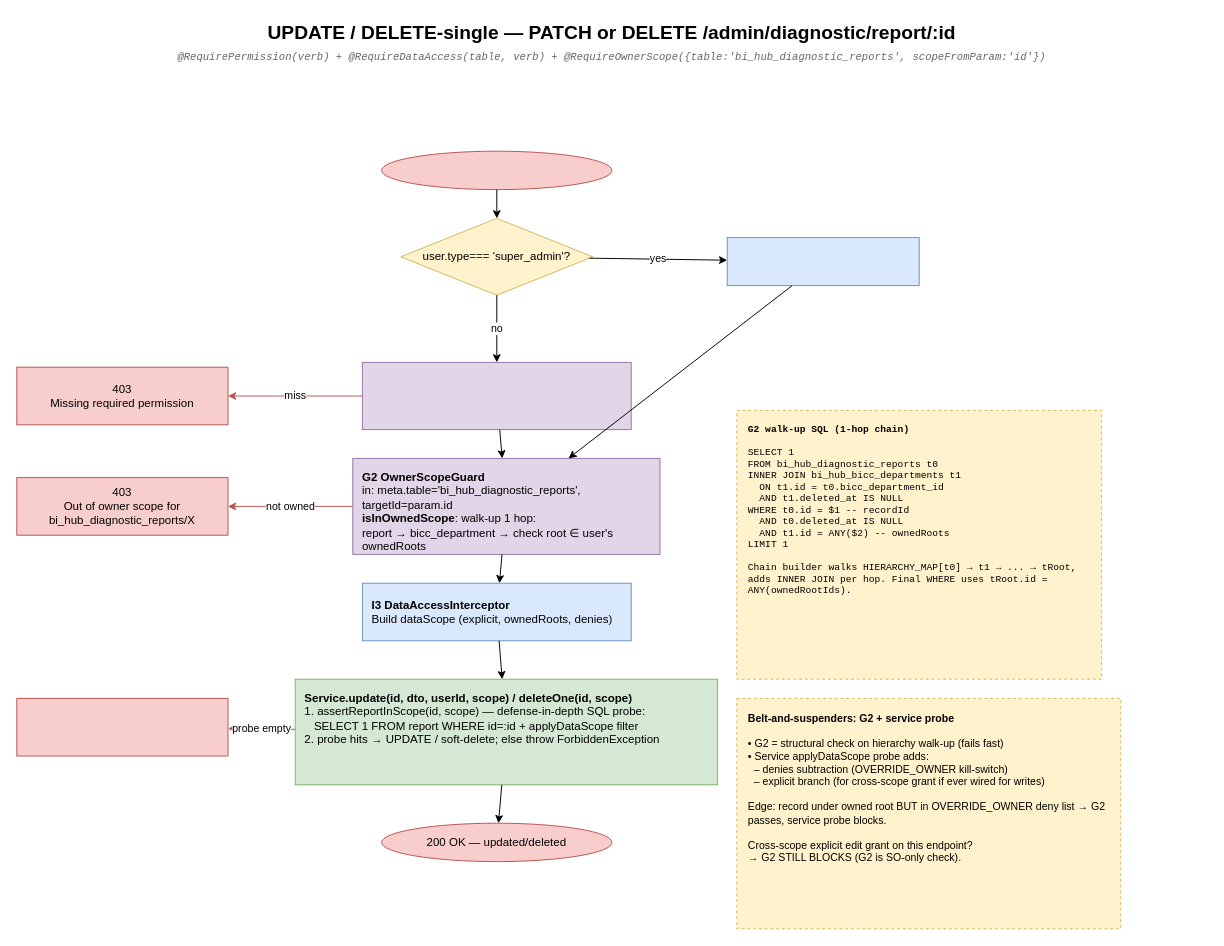
Image size: 1224x946. Some labels were removed from this diagram. Here are the shapes that lost their labels. From the top down, the centre of each, then its label:
At (x=496, y=170): "Request — recordId from URL :id".
At (x=822, y=261): "G1 bypass. G2 + I3 still run ↓".
At (x=496, y=395): "G1 PermissionGuard verb: 'bh_diag_report_edit' OR 'bh_diag_report_delete'".
At (x=122, y=726): "403 Blocked by denies / probe empty".
